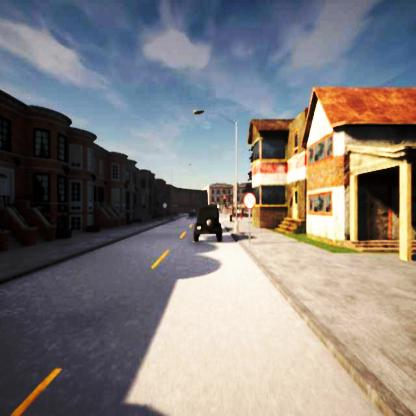vehicle: (192, 204, 222, 240)
